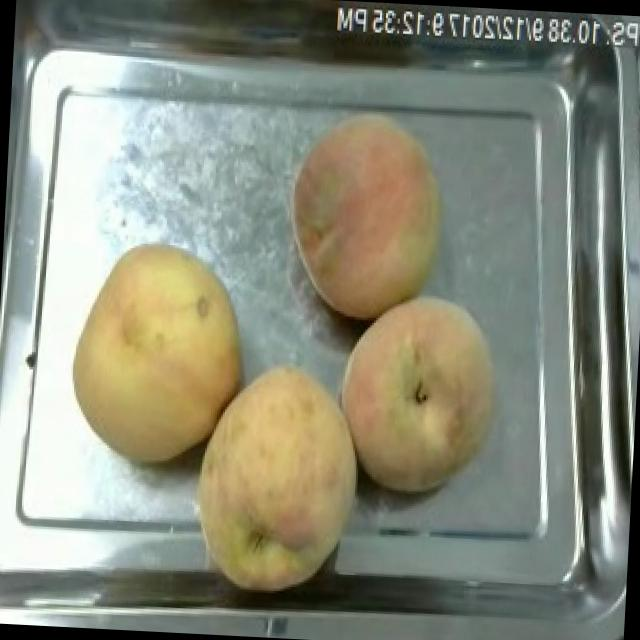Fruit: (177, 348, 376, 608), (56, 230, 260, 476), (321, 283, 514, 503), (276, 103, 459, 330)
